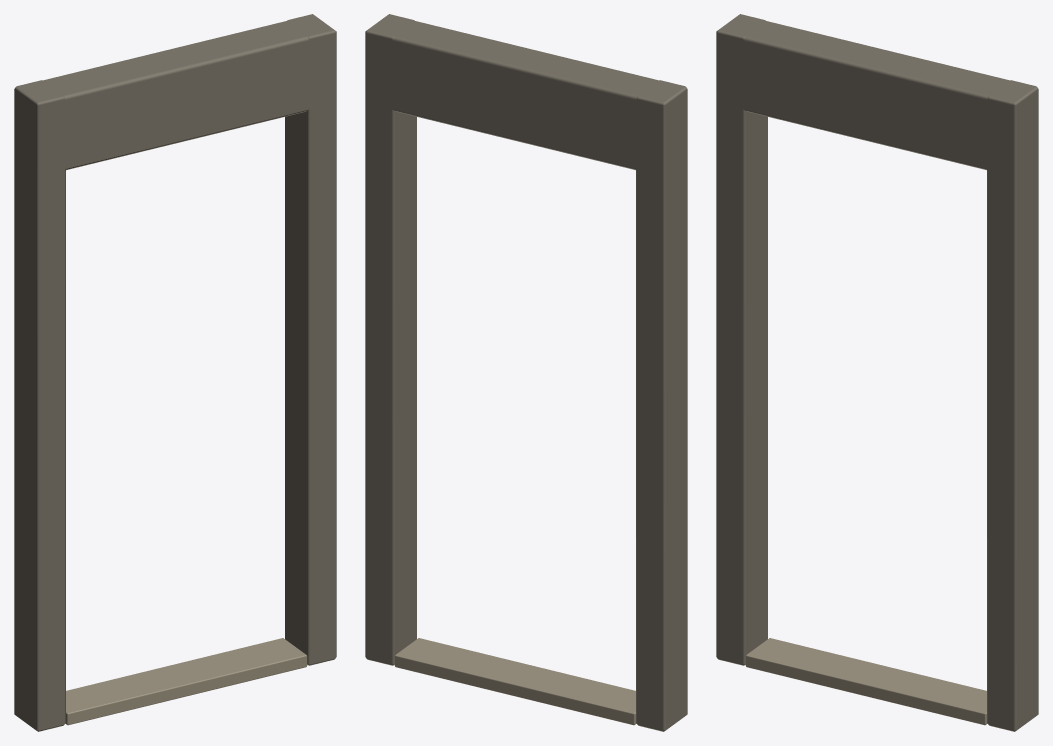
The model's file is stone-halls-door-frame.eba9833c.glb.
3 renders of one model, left to right at view 1: azimuth 30°, elevation 25°; view 2: azimuth 150°, elevation 25°; view 3: azimuth 330°, elevation 25°, orthographic.
Visible parts, largest first — view 1: body; view 2: body; view 3: body.
Part boxes in pixels (left/top/right/bottom): body: left=14, top=14, right=336, bottom=731; body: left=365, top=14, right=687, bottom=731; body: left=716, top=14, right=1038, bottom=731.
Bounding box in the file's own units: 1 × 2 × 0.14.
